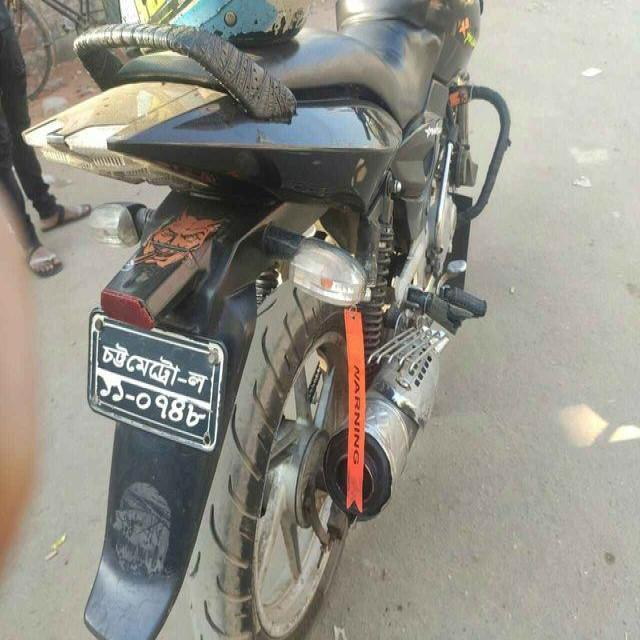numberplate: (86, 306, 227, 452)
